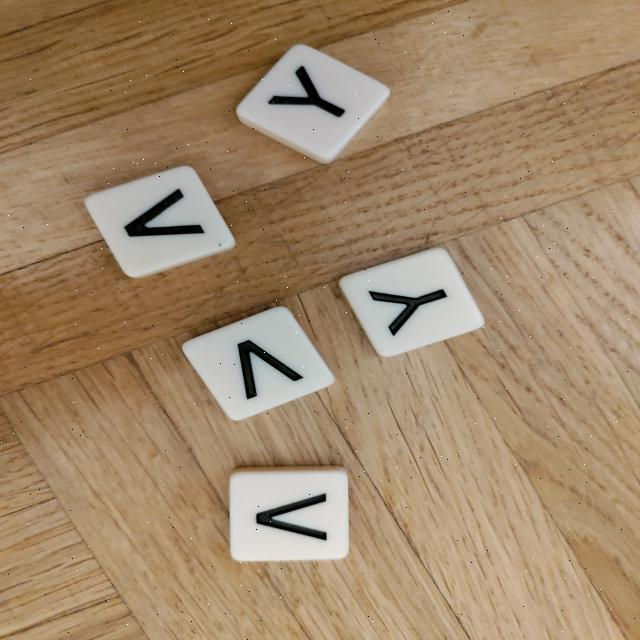v: (177, 305, 340, 424), (79, 163, 241, 281), (227, 465, 348, 562)
y: (227, 41, 397, 166), (336, 244, 489, 361)
